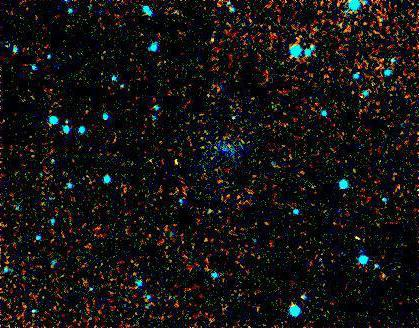star: (162, 150, 192, 180)
